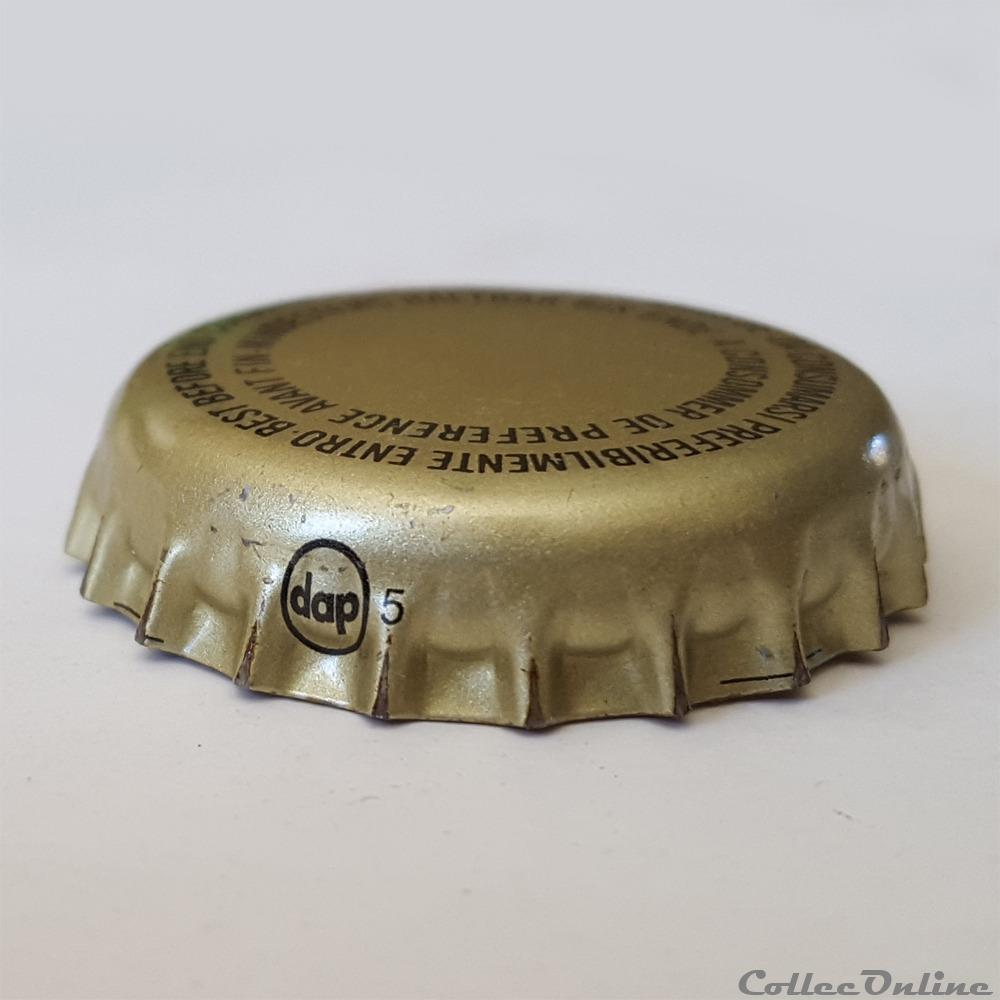metal: (66, 289, 928, 728)
